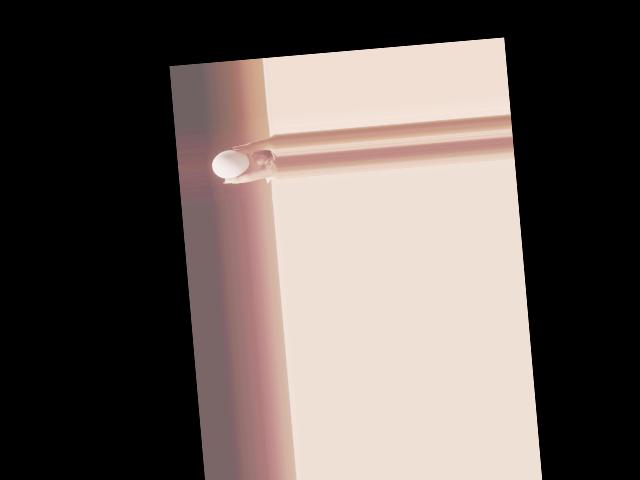egg: (211, 147, 251, 179)
